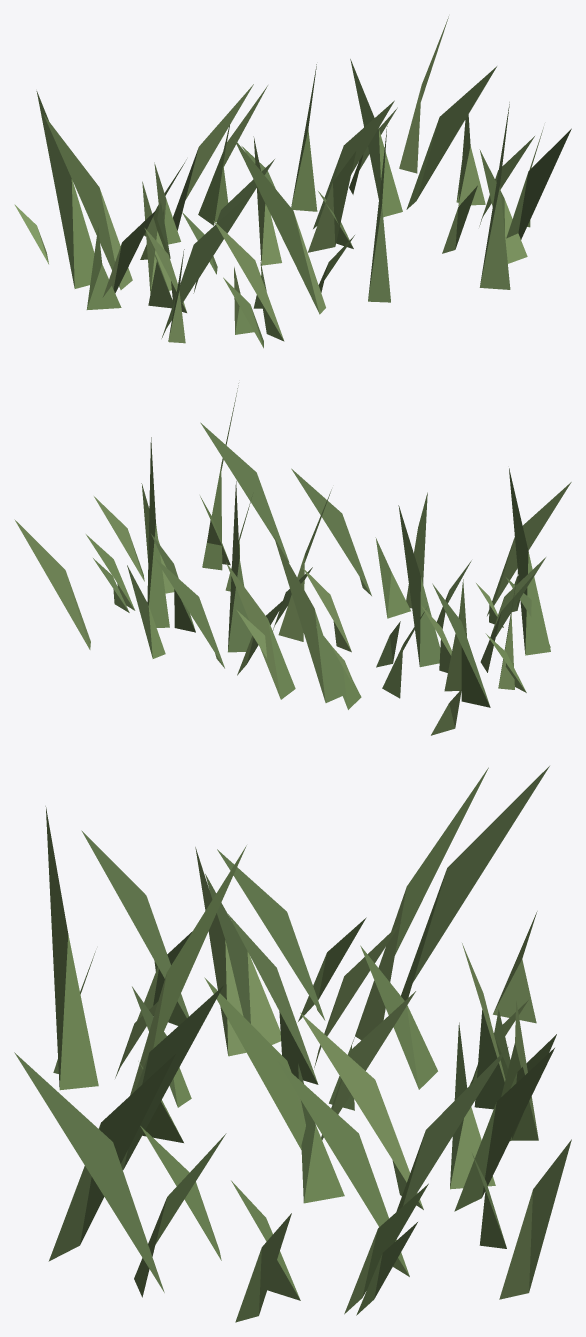
File: grass_clump_b.glb
The picture shows the model from 3 angles, top to bottom: view 1: azimuth 30°, elevation 25°; view 2: azimuth 150°, elevation 25°; view 3: azimuth 270°, elevation 25°; orthographic projection. The views are drawn at different scales.
Visible parts, largest first — view 1: grass_clump_b; view 2: grass_clump_b; view 3: grass_clump_b.
Part boxes in pixels (<box>): grass_clump_b: <box>14,16,571,348</box>; grass_clump_b: <box>14,383,571,735</box>; grass_clump_b: <box>14,766,571,1322</box>.
Size of the model in its own units: 1.61 by 0.5468 by 1.09.
